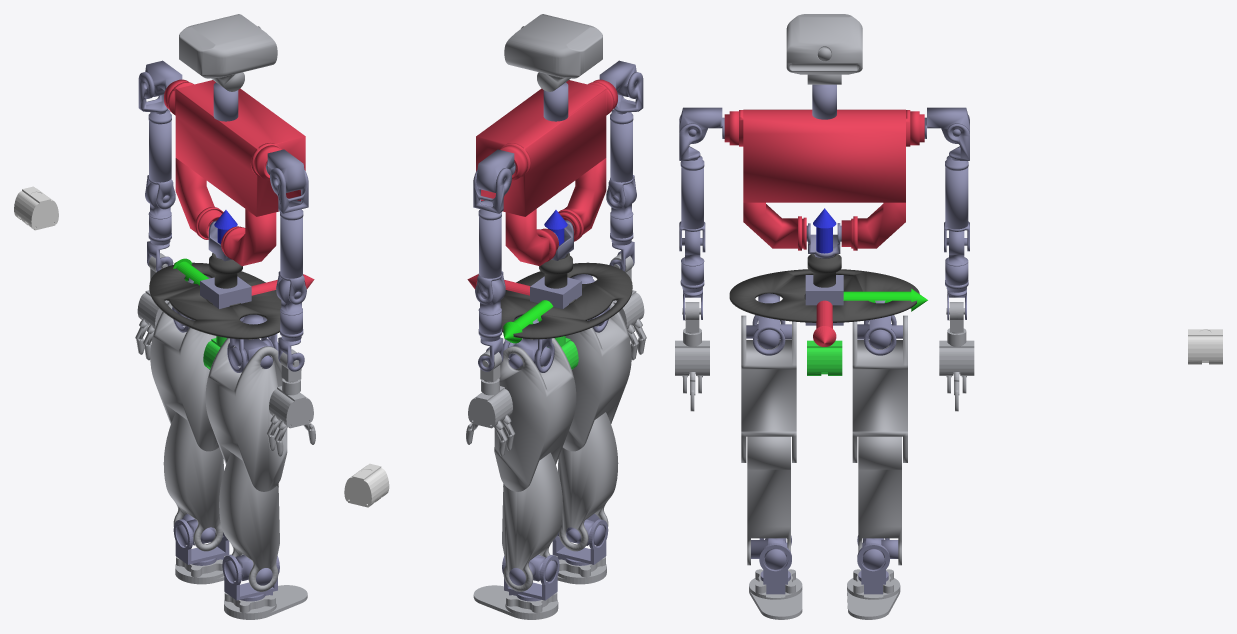
Rendered from teo3d.glb.
3 renders of one model, left to right at view 1: azimuth 30°, elevation 25°; view 2: azimuth 150°, elevation 25°; view 3: azimuth 270°, elevation 25°, orthographic.
Parts seen in each view (by area): view 1: node.016, FrontalRightHip, node, FrontalLeftHip, FrontalRightKnee, FrontalLeftKnee, FrontalNeck, ZYX, AxialLeftShoulder, AxialRightShoulder, RightFetch, RightFoot (+19 smaller); view 2: node.016, FrontalLeftHip, node, FrontalRightHip, FrontalLeftKnee, FrontalNeck, FrontalRightKnee, ZYX, AxialRightShoulder, AxialLeftShoulder, LeftFetch, LeftFoot (+19 smaller); view 3: node.016, node, FrontalRightHip, FrontalLeftHip, FrontalNeck, FrontalLeftKnee, FrontalRightKnee, ZYX, AxialLeftShoulder, AxialRightShoulder, RightFoot, LeftFoot (+17 smaller).
Part boxes in pixels (x1,y1,x2,y2): node.016: (164, 79, 305, 266); FrontalRightHip: (205, 338, 287, 491); node: (149, 253, 281, 339); FrontalLeftHip: (150, 302, 218, 451); FrontalRightKnee: (219, 453, 279, 591); FrontalLeftKnee: (163, 412, 223, 551); FrontalNeck: (179, 14, 277, 91); ZYX: (173, 210, 314, 321); AxialLeftShoulder: (145, 109, 175, 209); AxialRightShoulder: (276, 209, 306, 304); RightFetch: (266, 386, 315, 456); RightFoot: (224, 585, 307, 619); node.016: (476, 79, 617, 266); FrontalLeftHip: (494, 338, 576, 491); node: (500, 253, 632, 339); FrontalRightHip: (563, 301, 631, 451); FrontalLeftKnee: (502, 452, 562, 591); FrontalNeck: (504, 14, 602, 91); FrontalRightKnee: (558, 412, 618, 551); ZYX: (467, 210, 581, 343); AxialRightShoulder: (606, 109, 635, 209); AxialLeftShoulder: (475, 209, 505, 304); LeftFetch: (466, 386, 515, 456); LeftFoot: (473, 585, 558, 619); node.016: (724, 109, 924, 250); node: (729, 254, 919, 322); FrontalRightHip: (741, 315, 796, 462); FrontalLeftHip: (852, 315, 907, 462); FrontalNeck: (786, 14, 862, 84); FrontalLeftKnee: (858, 436, 901, 565); FrontalRightKnee: (747, 436, 790, 565); ZYX: (805, 208, 927, 346); AxialLeftShoulder: (944, 156, 969, 252); AxialRightShoulder: (679, 156, 705, 252); RightFoot: (749, 569, 802, 619); LeftFoot: (847, 569, 900, 619).
Size of the model in its own units: 0.4482 by 1.63 by 1.44.
